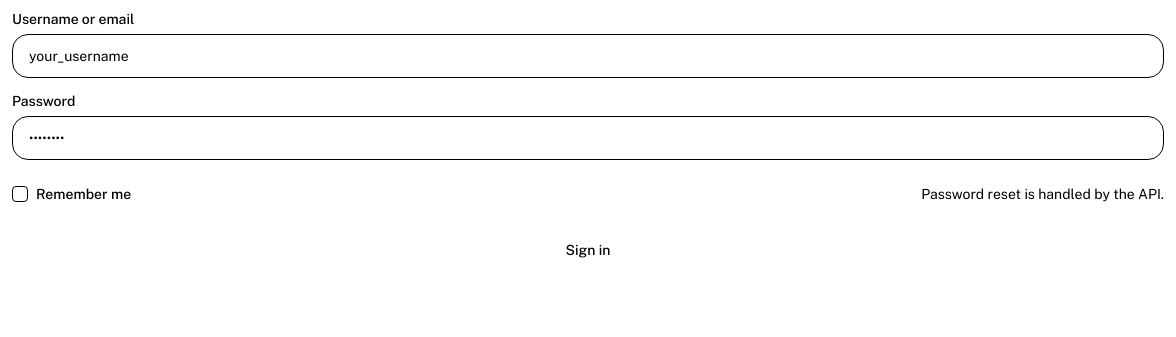
Scenario: LoginForm › renders an authentication error returned by next-auth
The width and height of the screenshot is (1176, 337).
Type "alice" into the field labelled "Username or email" at (588, 56), box [12,34,1164,78]
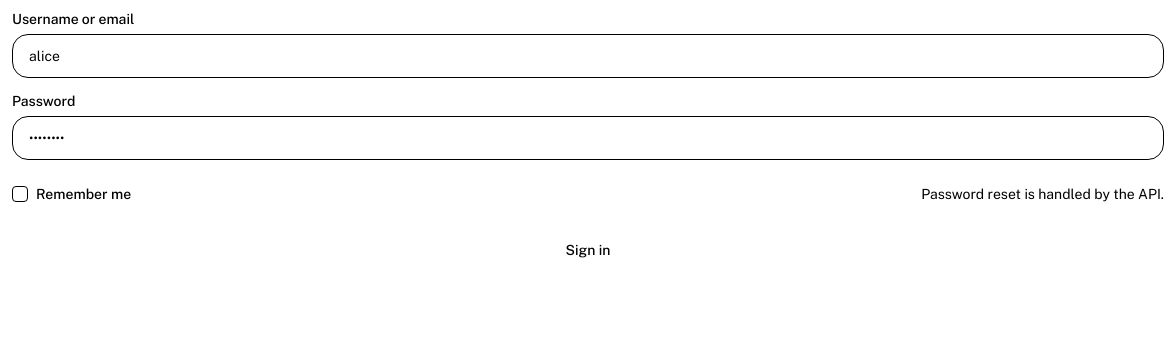
Type "wrong-password" into the password field labelled "Password" at (588, 138), box [12,116,1164,160]
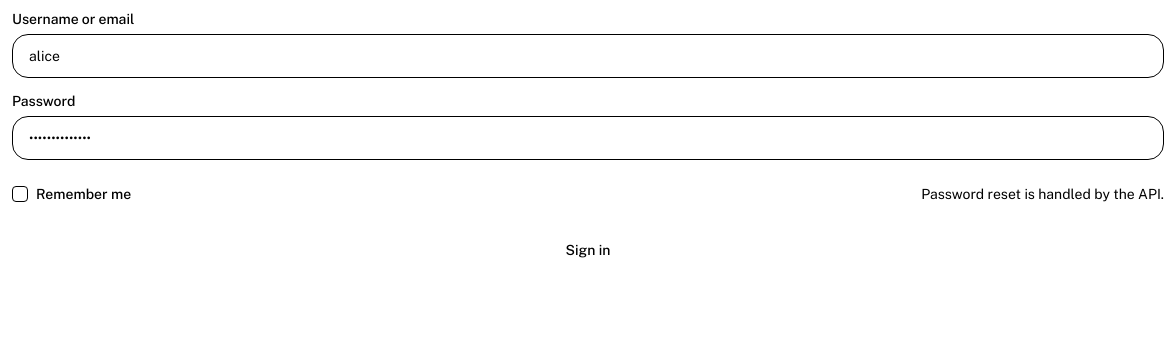
Click the button "Sign in" at (588, 250), box [12,228,1164,272]
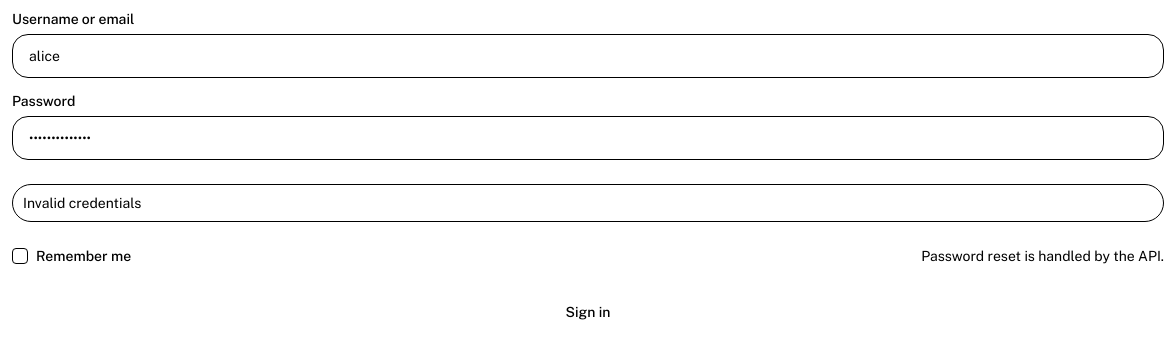
Now the text "Invalid credentials" is shown, box [23,195,141,211]
